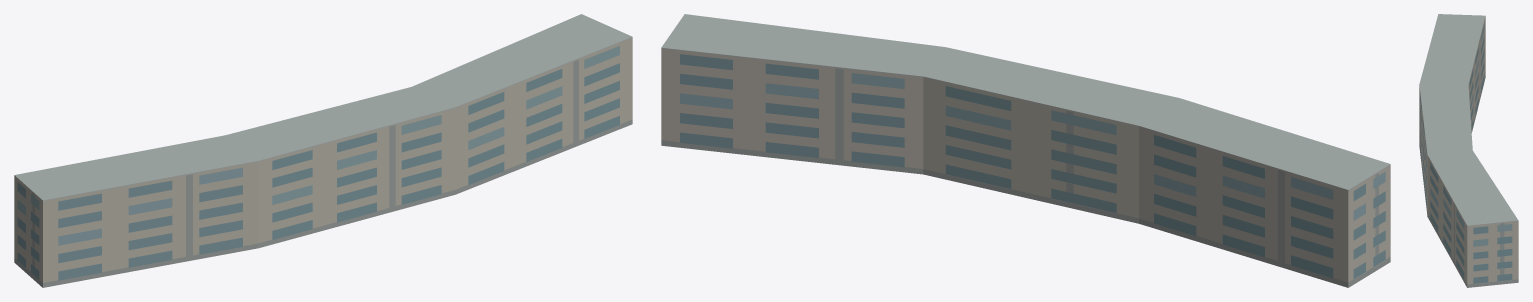
The model's file is residential-81cb38e0-c084-49f4-9d27-82a98bda611e.glb.
3 renders of one model, left to right at view 1: azimuth 30°, elevation 25°; view 2: azimuth 150°, elevation 25°; view 3: azimuth 270°, elevation 25°, orthographic. The views are drawn at different scales.
Parts seen in each view (by area): view 1: residential-81cb38e0-c084-49f4-9d27-82a98bda611e.tmp; view 2: residential-81cb38e0-c084-49f4-9d27-82a98bda611e.tmp; view 3: residential-81cb38e0-c084-49f4-9d27-82a98bda611e.tmp.
Boxes of the visible parts, x1,y1,x2,y2 form: residential-81cb38e0-c084-49f4-9d27-82a98bda611e.tmp: (14,14,632,287); residential-81cb38e0-c084-49f4-9d27-82a98bda611e.tmp: (661,14,1390,287); residential-81cb38e0-c084-49f4-9d27-82a98bda611e.tmp: (1419,14,1518,287).
Size of the model in its own units: 111 by 15.25 by 22.03.
